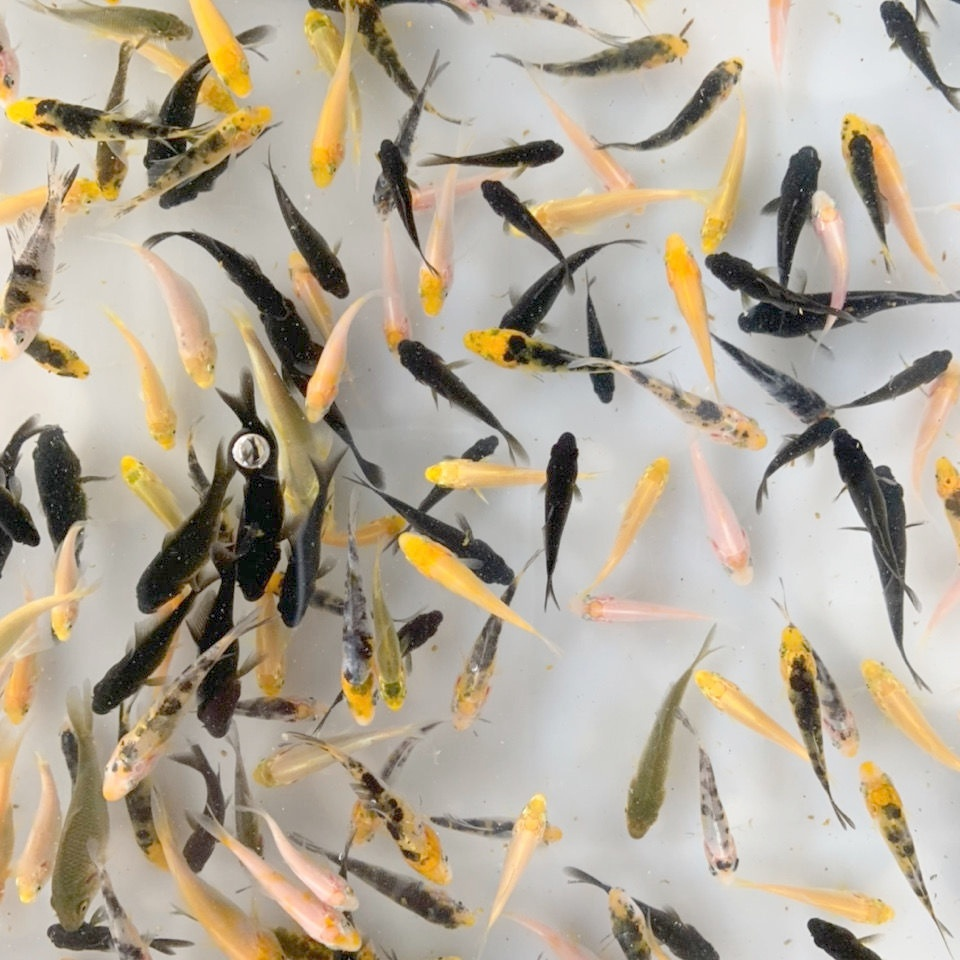fry: (838, 105, 937, 273), (606, 659, 692, 843), (141, 247, 238, 396), (214, 436, 295, 602), (354, 767, 464, 886), (632, 363, 777, 453), (774, 615, 838, 817), (47, 763, 121, 934), (105, 317, 190, 462), (1, 202, 69, 373), (856, 649, 954, 767), (863, 454, 919, 654), (92, 694, 192, 802), (399, 523, 512, 617), (125, 498, 221, 608), (854, 762, 932, 896), (847, 1, 944, 108), (534, 420, 598, 578), (685, 737, 750, 891), (8, 83, 163, 147), (653, 225, 719, 375), (182, 609, 256, 741), (19, 405, 96, 530), (345, 4, 434, 111), (328, 583, 389, 737), (454, 317, 596, 383), (393, 328, 493, 420), (545, 20, 693, 82), (743, 337, 843, 428), (490, 252, 589, 343), (373, 865, 485, 944), (80, 615, 169, 714), (440, 794, 586, 853), (692, 665, 787, 754), (189, 1, 276, 98), (231, 891, 367, 953), (661, 43, 747, 141), (829, 421, 887, 565), (493, 785, 553, 924), (360, 85, 421, 221), (767, 127, 821, 278), (303, 56, 360, 199), (515, 186, 663, 241), (38, 533, 100, 663), (112, 738, 171, 874), (298, 5, 367, 121), (8, 754, 58, 914), (612, 452, 680, 569), (297, 323, 374, 426), (445, 621, 511, 737), (280, 830, 373, 912), (560, 589, 715, 638), (173, 763, 240, 876), (696, 485, 767, 591), (576, 128, 656, 221), (279, 505, 335, 637), (277, 834, 366, 914), (444, 515, 534, 594), (243, 734, 350, 798), (290, 209, 366, 299), (60, 1, 199, 50), (756, 415, 838, 498), (779, 875, 899, 931), (416, 420, 502, 498), (100, 446, 179, 530), (451, 1, 605, 44), (185, 894, 285, 960), (860, 340, 956, 408), (412, 192, 460, 325), (576, 299, 631, 415), (187, 99, 283, 165), (240, 599, 302, 699), (816, 185, 854, 344), (96, 889, 180, 960), (370, 234, 419, 354), (282, 236, 334, 344), (19, 165, 112, 225), (376, 588, 418, 720), (373, 128, 427, 230), (815, 662, 866, 770), (351, 747, 412, 836), (87, 69, 129, 198), (461, 137, 574, 183), (424, 449, 540, 492), (251, 737, 337, 795), (748, 2, 808, 85), (144, 69, 186, 186), (800, 905, 887, 960), (695, 144, 734, 266), (699, 244, 782, 301), (32, 323, 99, 392), (467, 172, 531, 243), (1, 588, 66, 656), (383, 602, 453, 665), (509, 909, 595, 960), (1, 638, 47, 731), (241, 683, 329, 730), (596, 881, 648, 960), (918, 369, 960, 465), (144, 172, 232, 215), (663, 907, 727, 957), (927, 446, 960, 541), (1, 36, 34, 105)
